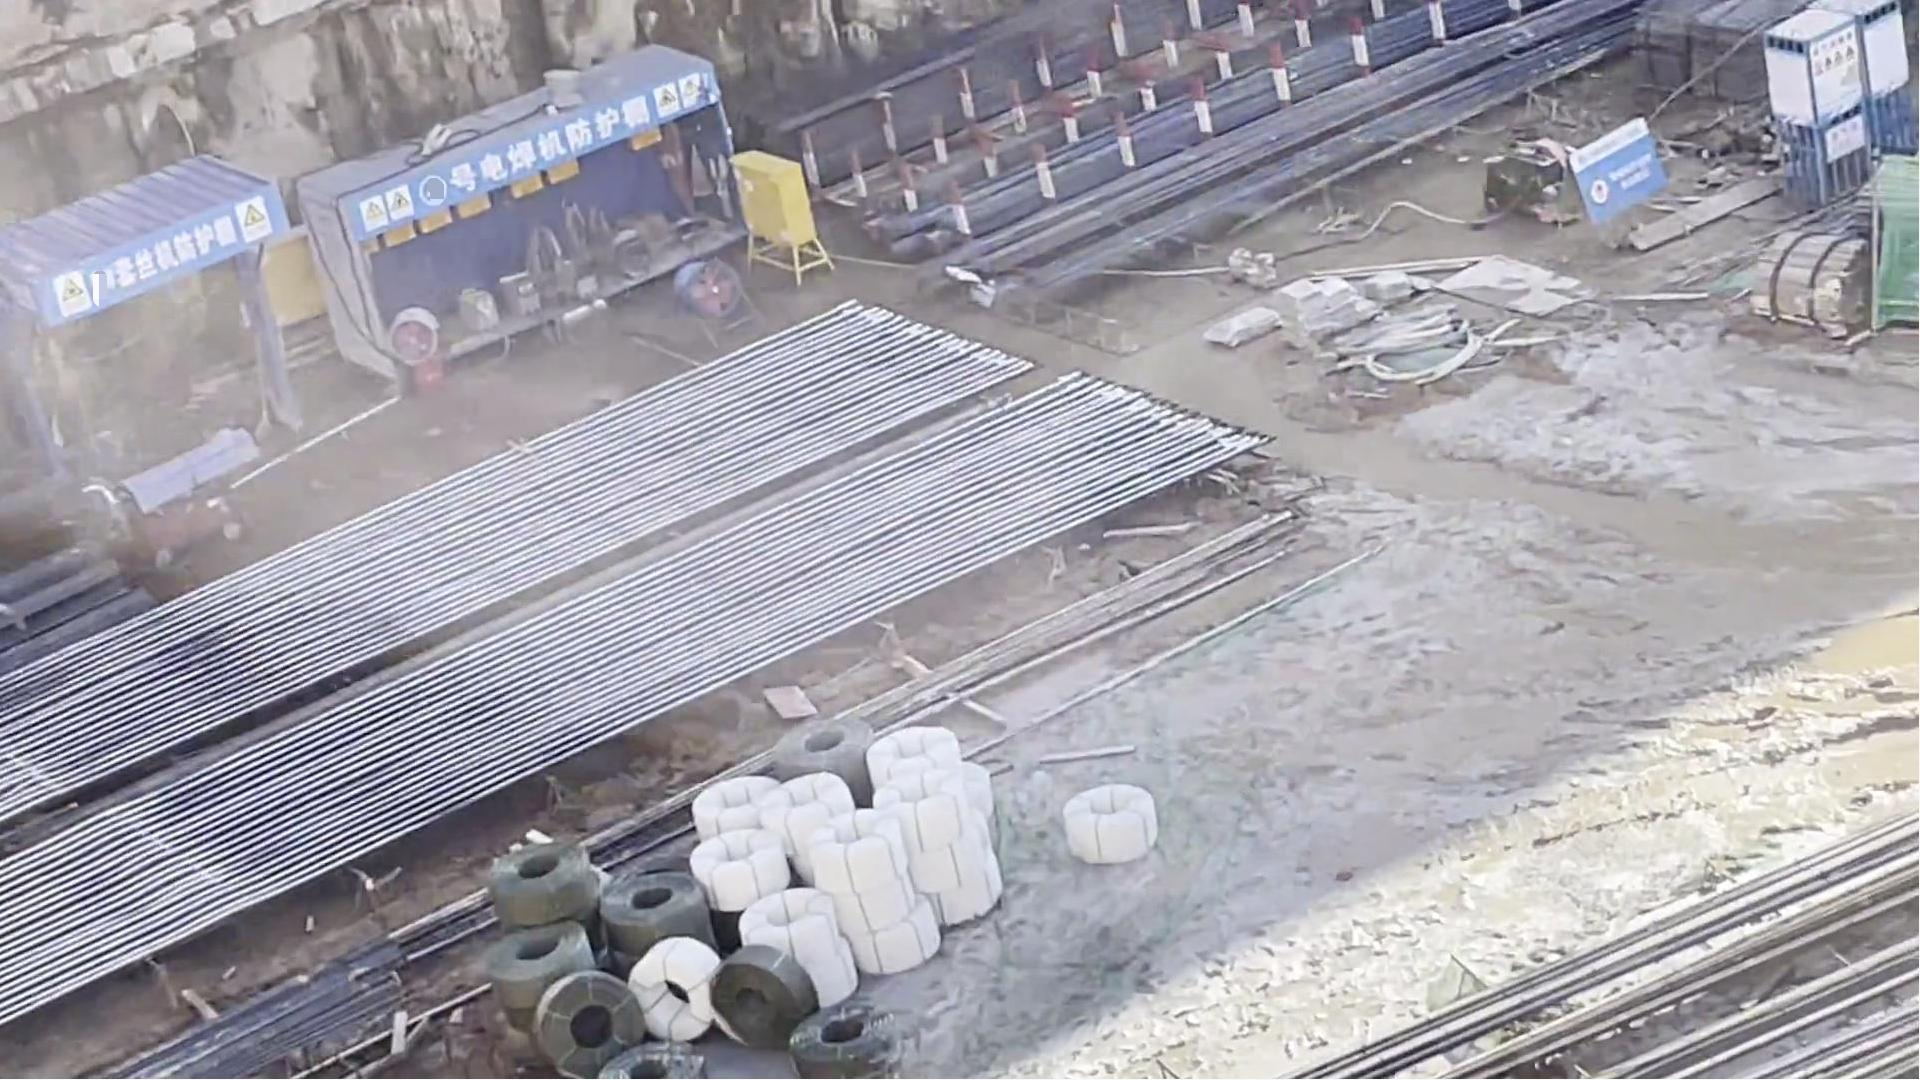ebox: (717, 149, 833, 286)
fence: (439, 79, 655, 215), (1563, 119, 1665, 232), (104, 208, 236, 293), (1813, 30, 1871, 167), (353, 179, 419, 251), (659, 69, 705, 123), (47, 264, 91, 315), (240, 198, 270, 249)
rebar: (1, 368, 1296, 1080), (1, 298, 1040, 793), (820, 4, 1634, 306), (1299, 804, 1920, 1077)
